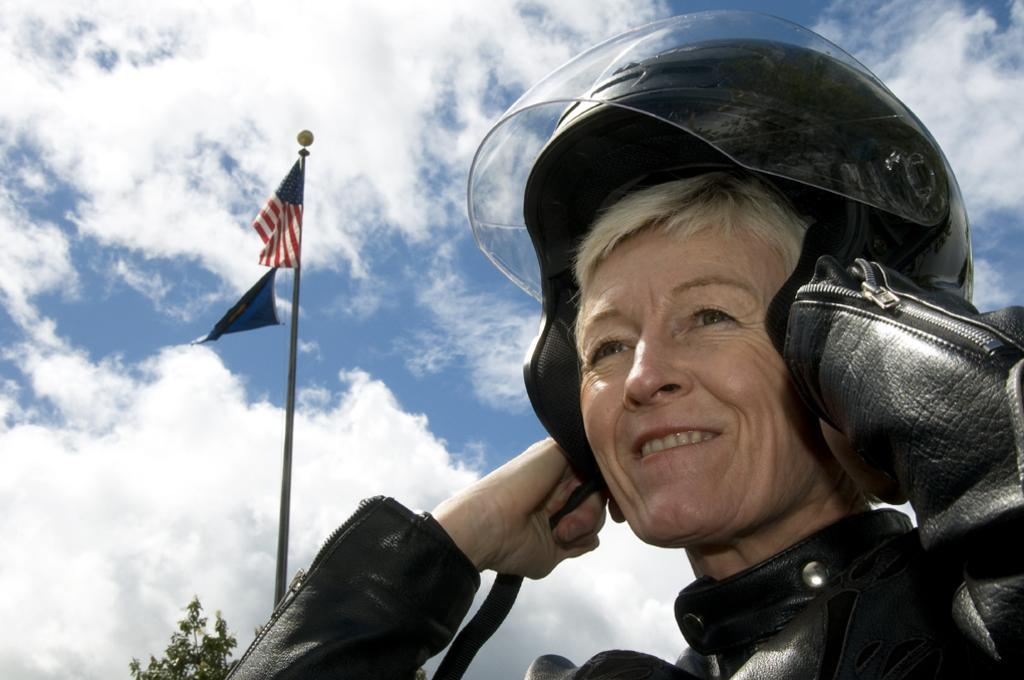helmet: (467, 9, 975, 531)
